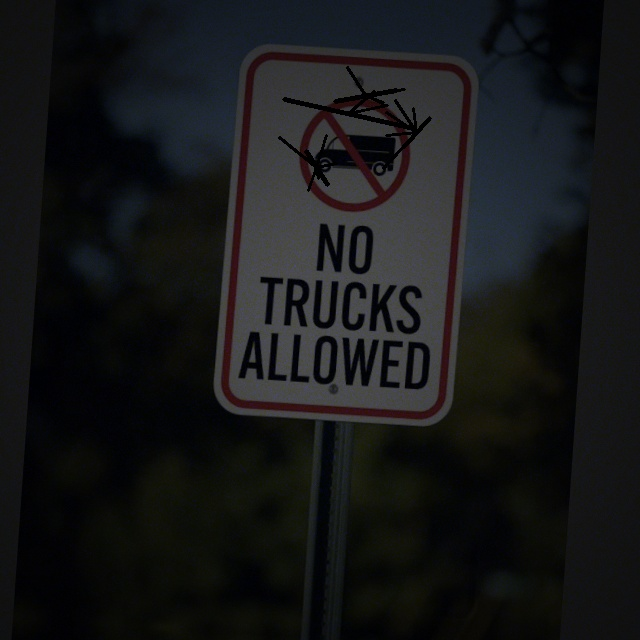Truck_Prohibited: (275, 79, 452, 226)
